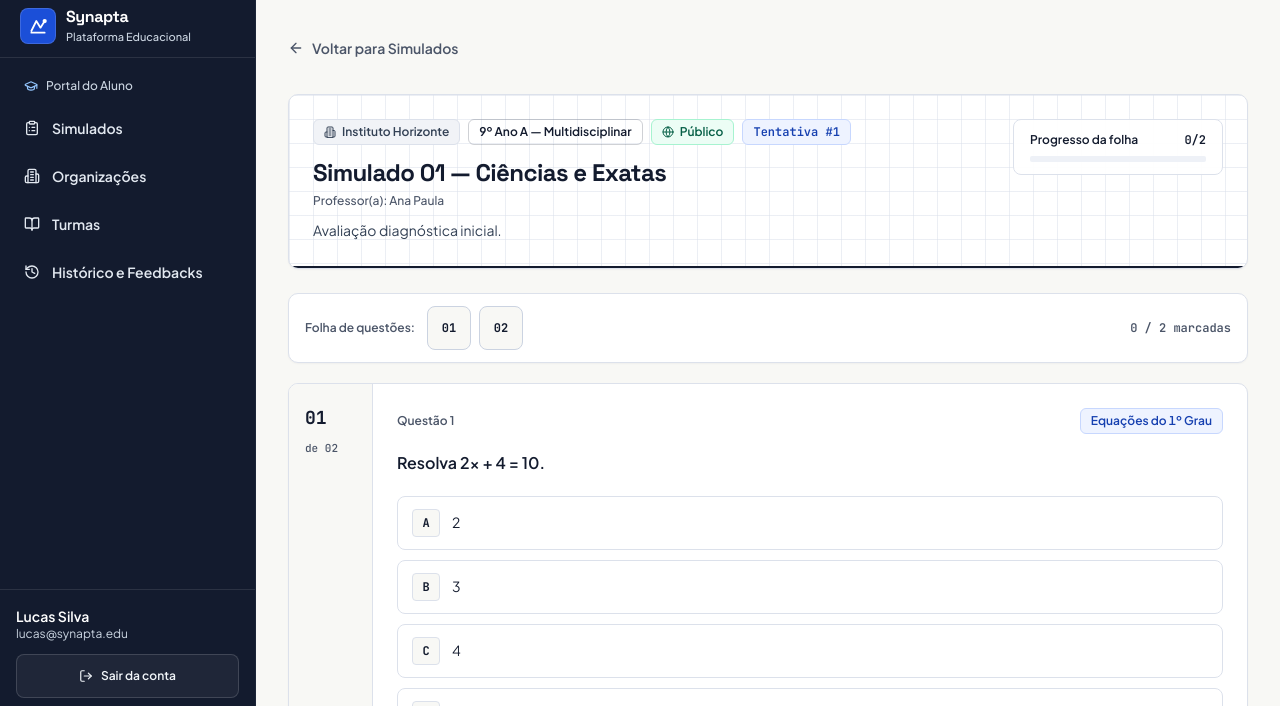
Scenario: StudentQuizFeedback › exibe questões A-D, envia respostas e mostra feedback determinístico + comentário do professor
The width and height of the screenshot is (1280, 706).
Expected: the text "Tentativa #1" is shown, x1=742 y1=119 x2=851 y2=145
Expected: the text "Resolva 2x + 4 = 10." is shown, x1=397 y1=452 x2=545 y2=473
Click the text "4" at point(456, 651), box x1=452 y1=639 x2=461 y2=662
(page scrolled)
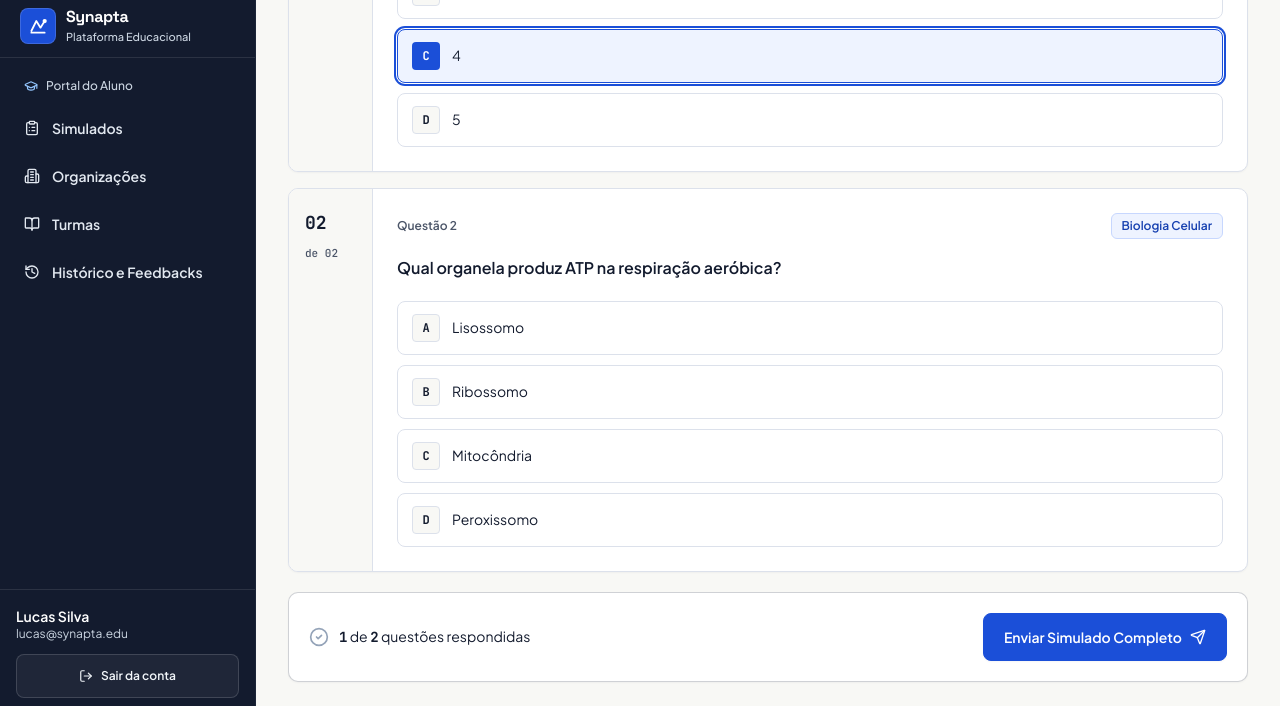
Click the text "Mitocôndria" at point(492, 456), box x1=452 y1=444 x2=532 y2=467
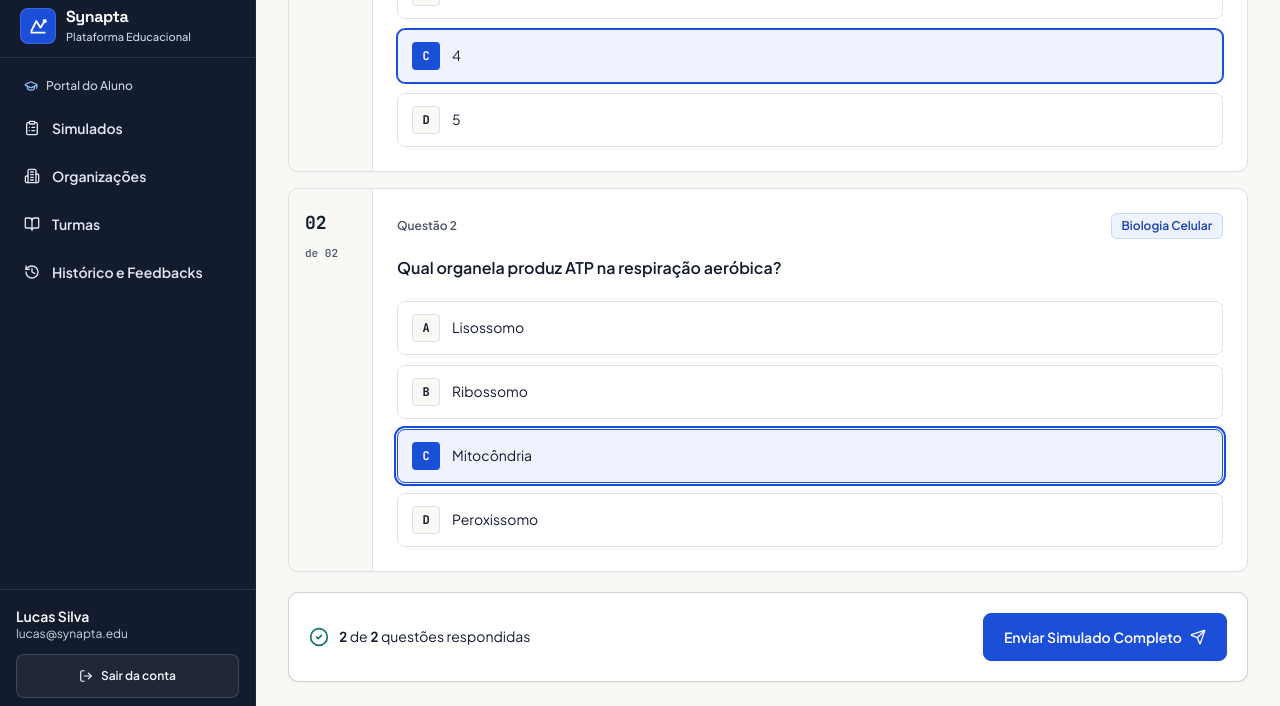
Click the button "Enviar Simulado Completo" at point(1105, 637), box x1=983 y1=613 x2=1227 y2=661
(page scrolled)
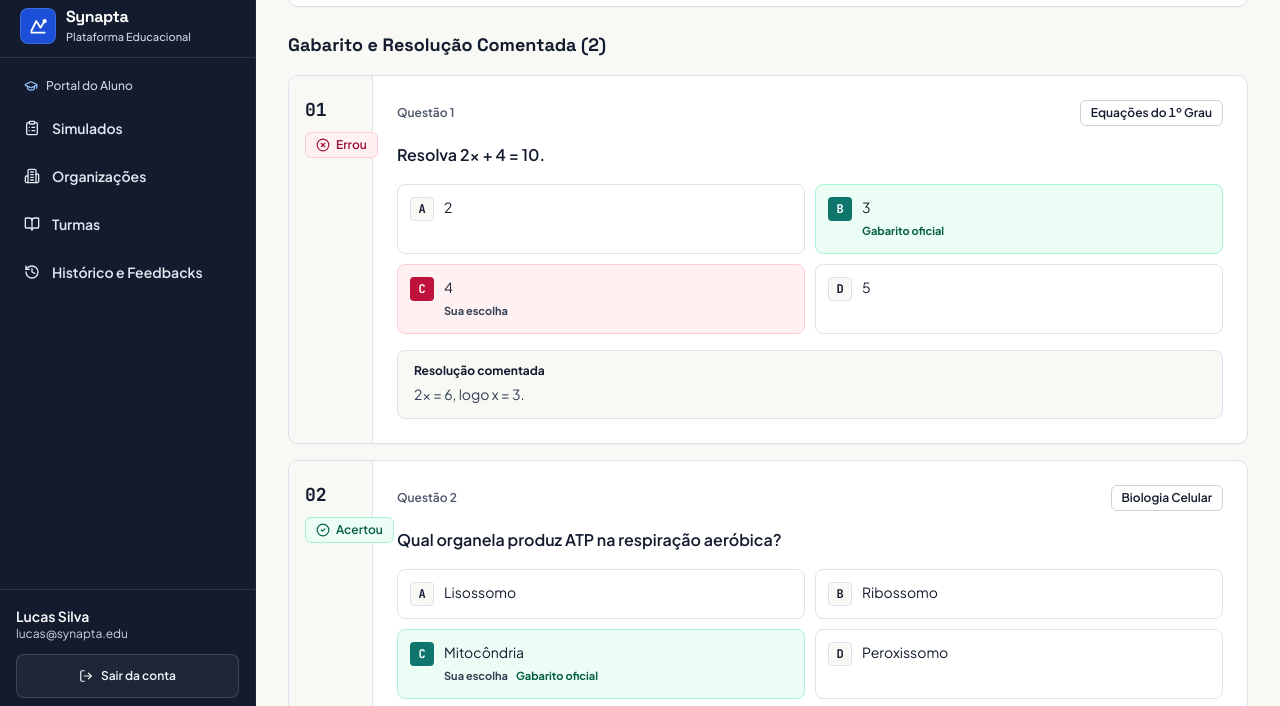
Result: the text "2x = 6, logo x = 3." is shown at x1=414 y1=385 x2=524 y2=403
